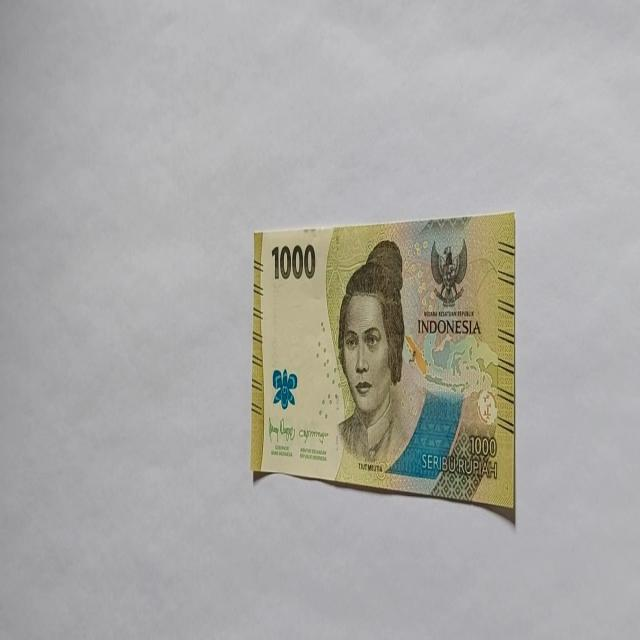seribu rupiah kertas: (250, 212, 516, 518)
